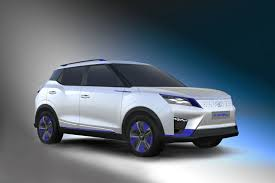XUV 400: (31, 57, 240, 157)
